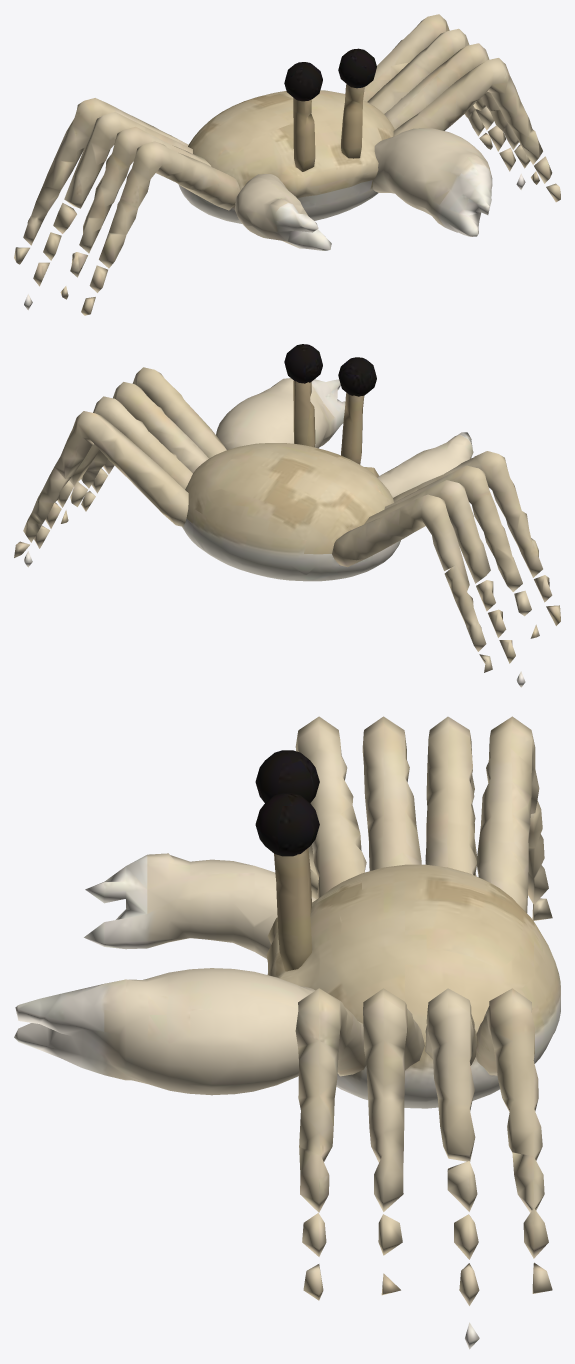
File: ghost_crab.glb
The picture shows the model from 3 angles, top to bottom: view 1: azimuth 30°, elevation 25°; view 2: azimuth 150°, elevation 25°; view 3: azimuth 270°, elevation 25°; orthographic projection. The views are drawn at different scales.
Parts seen in each view (by area): view 1: ghost_crab, claw1, leg0, leg4, claw0, leg2, leg3, leg5, leg6, leg1, leg7; view 2: ghost_crab, leg7, leg3, claw1, leg2, leg0, leg6, leg1, leg5, leg4, claw0; view 3: ghost_crab, claw1, claw0, leg4, leg3, leg7, leg5, leg6, leg0, leg2, leg1.
Part boxes in pixels (bbox=[...]): ghost_crab: bbox=[178, 48, 394, 223]; claw1: bbox=[372, 128, 492, 236]; leg0: bbox=[81, 141, 240, 315]; leg4: bbox=[393, 58, 560, 202]; claw0: bbox=[234, 174, 331, 250]; leg2: bbox=[24, 112, 192, 310]; leg3: bbox=[14, 98, 188, 264]; leg5: bbox=[384, 43, 539, 184]; leg6: bbox=[367, 28, 525, 189]; leg1: bbox=[60, 126, 211, 299]; leg7: bbox=[363, 14, 492, 149]; ghost_crab: bbox=[182, 344, 400, 581]; leg7: bbox=[14, 411, 188, 557]; leg3: bbox=[332, 494, 492, 672]; claw1: bbox=[216, 378, 345, 449]; leg2: bbox=[364, 480, 525, 687]; leg0: bbox=[393, 451, 560, 625]; leg6: bbox=[24, 396, 192, 567]; leg1: bbox=[384, 465, 539, 638]; leg5: bbox=[61, 382, 208, 523]; leg4: bbox=[81, 367, 226, 511]; claw0: bbox=[377, 432, 473, 497]; ghost_crab: bbox=[255, 750, 560, 1108]; claw1: bbox=[14, 968, 315, 1095]; claw0: bbox=[84, 853, 316, 958]; leg4: bbox=[295, 988, 366, 1300]; leg3: bbox=[476, 716, 552, 920]; leg7: bbox=[476, 988, 552, 1293]; leg5: bbox=[363, 988, 424, 1295]; leg6: bbox=[425, 988, 479, 1349]; leg0: bbox=[295, 716, 366, 899]; leg2: bbox=[425, 716, 476, 875]; leg1: bbox=[362, 716, 421, 870].
Size of the model in its own units: 0.2189 by 0.0977 by 0.1273.
1 material, 1 textured.
